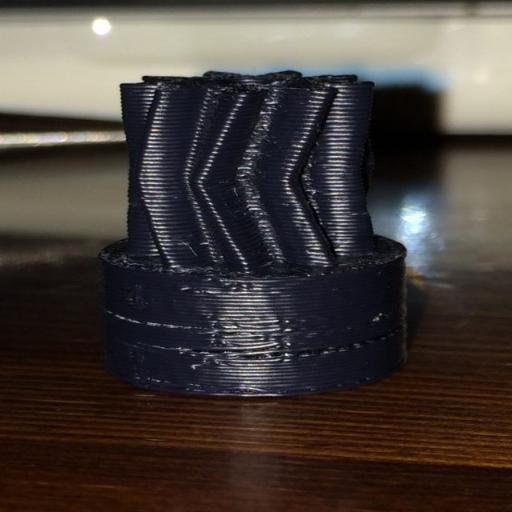cracks: (148, 330, 392, 372)
